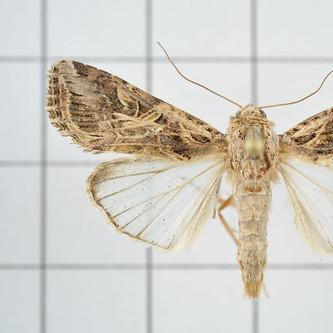Spodoptera litura: (46, 41, 333, 302)
